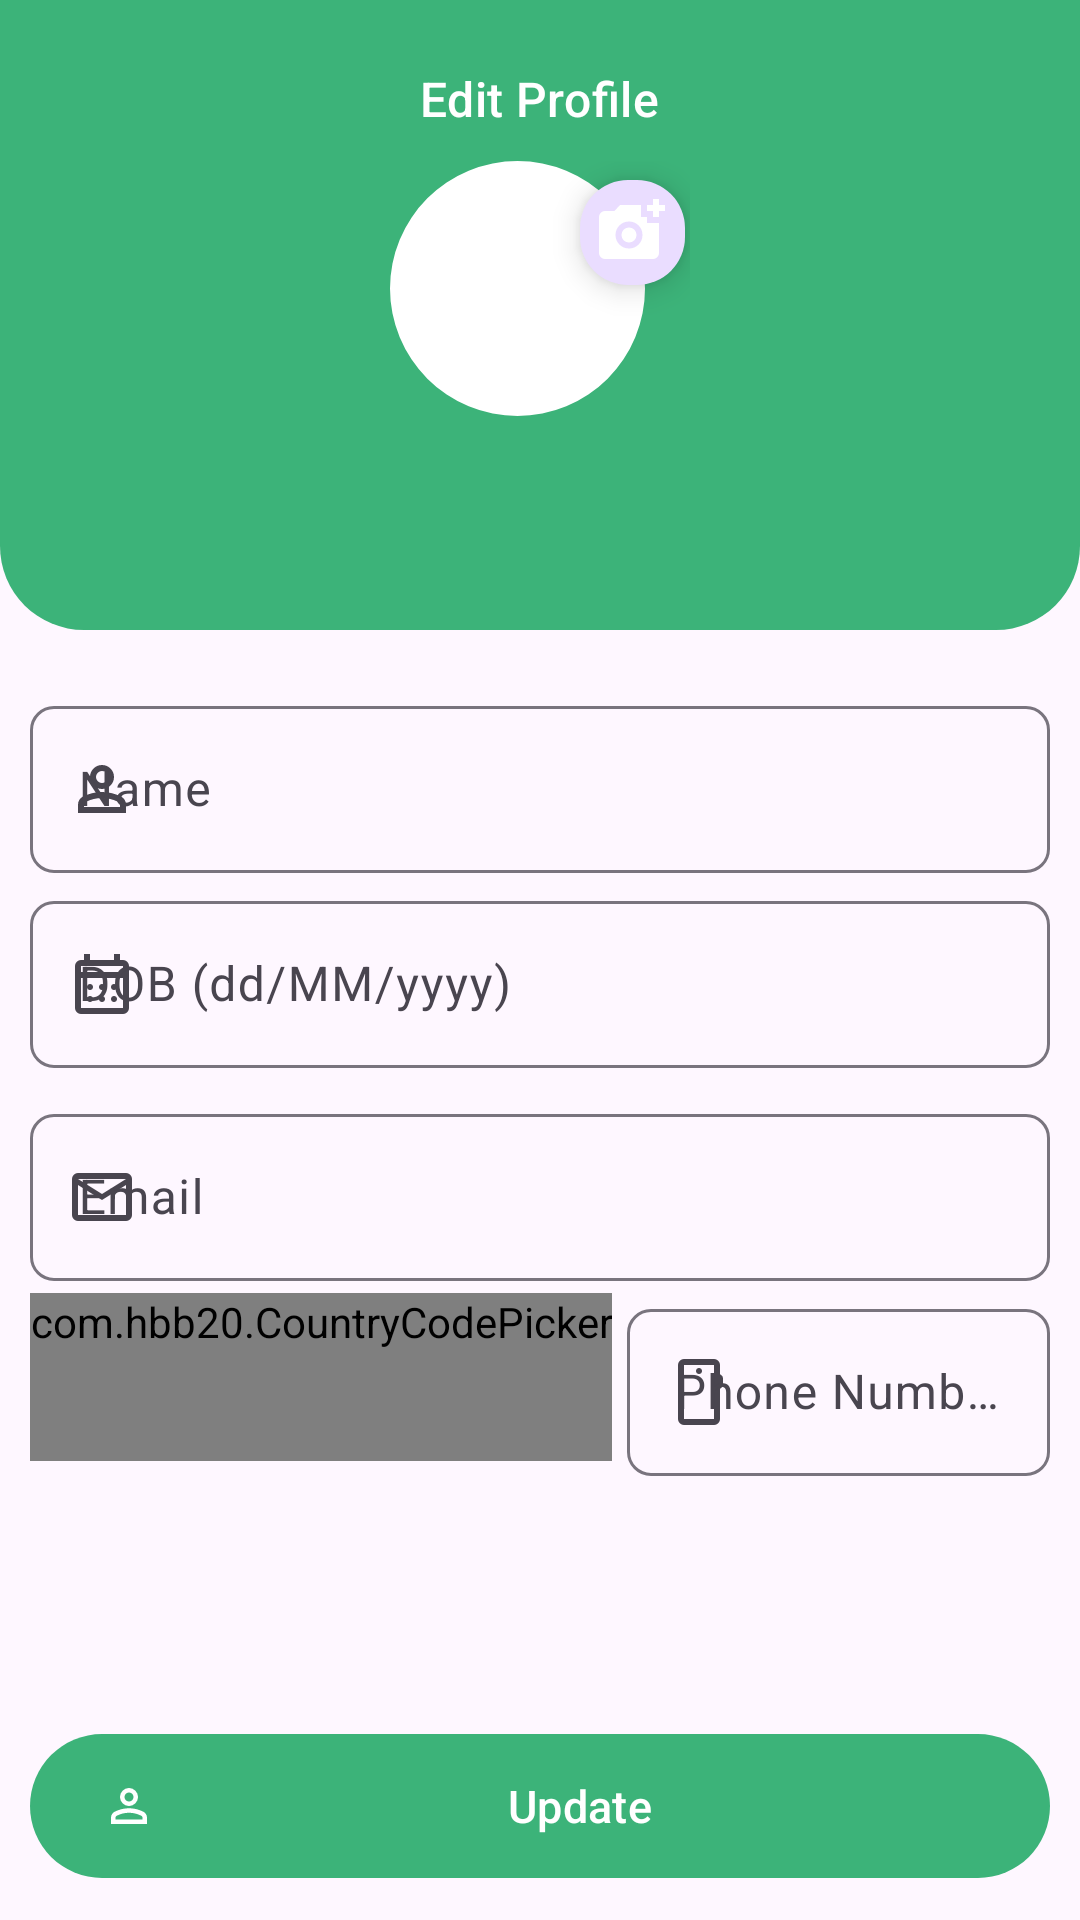

Point at icon controls on the screen. Image size 1080px x 1920px, points as (x,y).
Pick Photo: (623,236)
